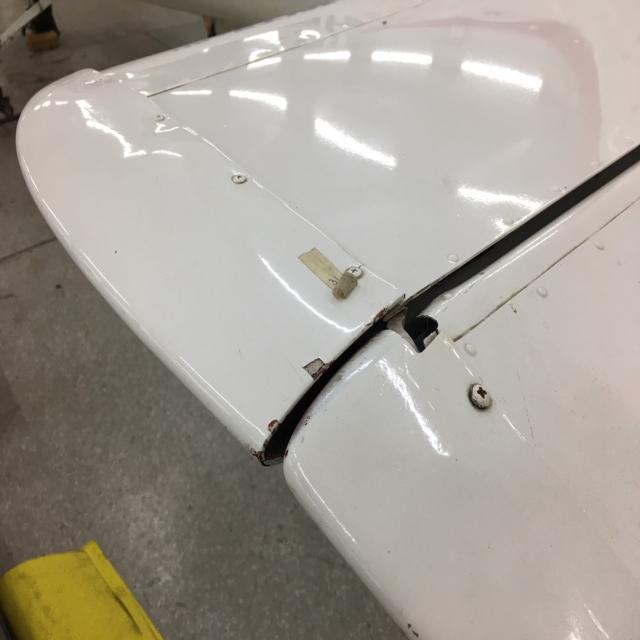Rupture: (247, 273, 406, 487)
